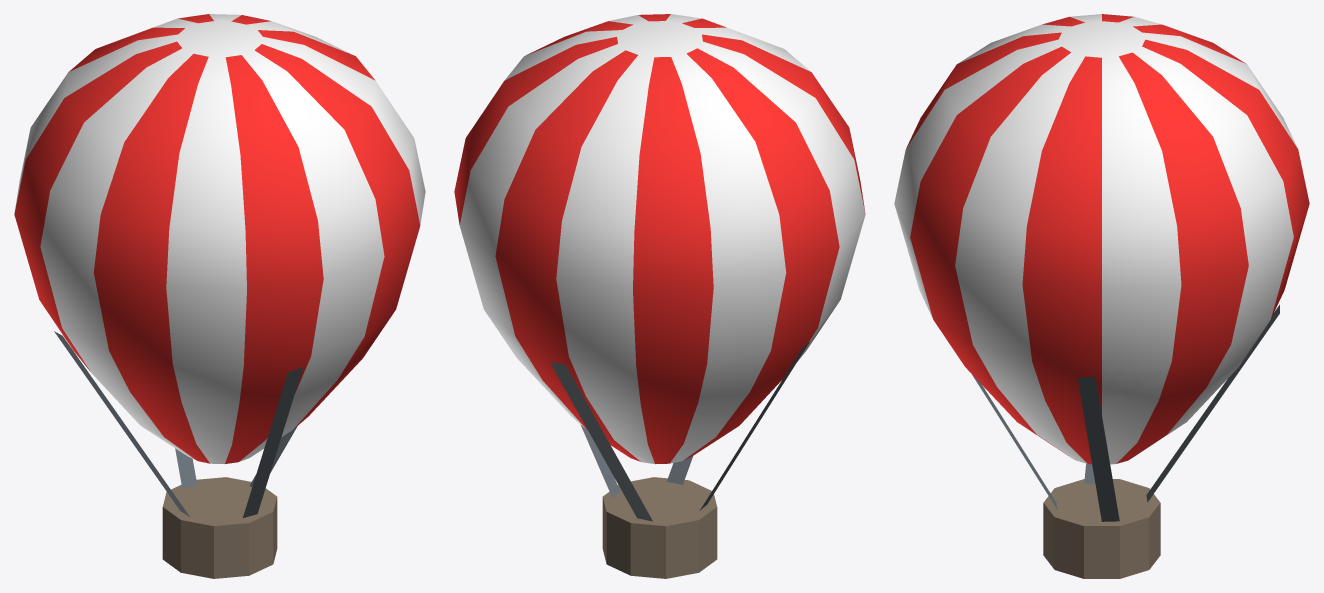
File: kikyuu.fbx
3 views of the same model, side by side, from view 1: azimuth 30°, elevation 25°; view 2: azimuth 150°, elevation 25°; view 3: azimuth 270°, elevation 25° (orthographic).
Visible parts, largest first — view 1: 球, 円柱, 平面; view 2: 球, 円柱, 平面; view 3: 球, 円柱, 平面.
Part boxes in pixels (x1,y1,x2,y2): 球: (14,14,425,464); 円柱: (162,477,277,578); 平面: (54,331,302,517); 球: (454,14,865,464); 円柱: (602,477,717,578); 平面: (550,341,809,521); 球: (894,14,1309,464); 円柱: (1043,479,1160,578); 平面: (972,304,1279,521).
Bounding box in the file's own units: 233 × 319 × 233.
